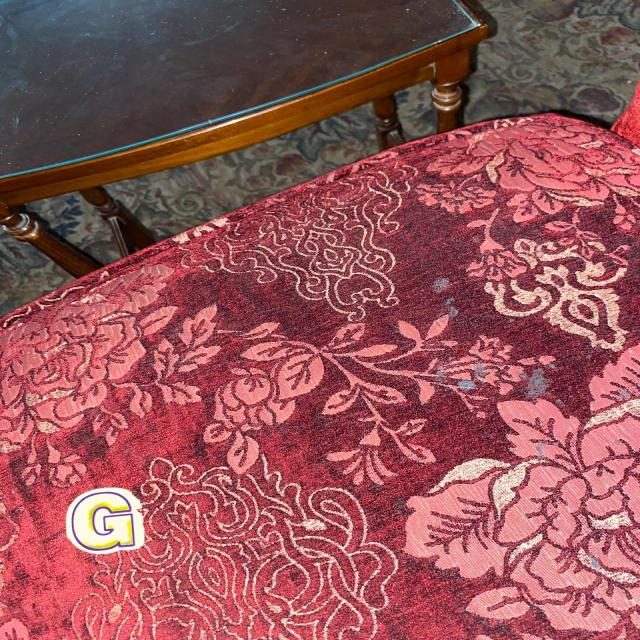G: (67, 488, 144, 554)
